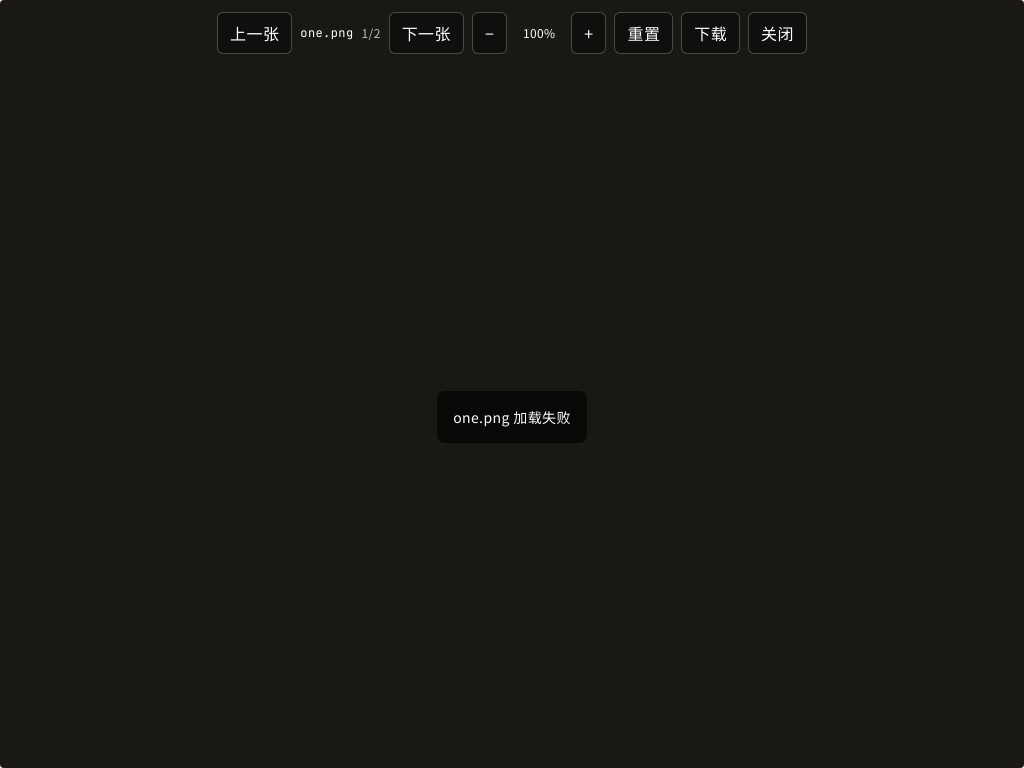
it: ImageLightbox artifacts and failure states › shows a per-image load failure while healthy siblings remain navigable
The image size is (1024, 768).
Expected: the text "one.png 加载失败" is shown, x1=437 y1=391 x2=587 y2=443
Click the button with aria-label "下一张图片" at x=426, y=33, box x1=389 y1=12 x2=464 y2=54
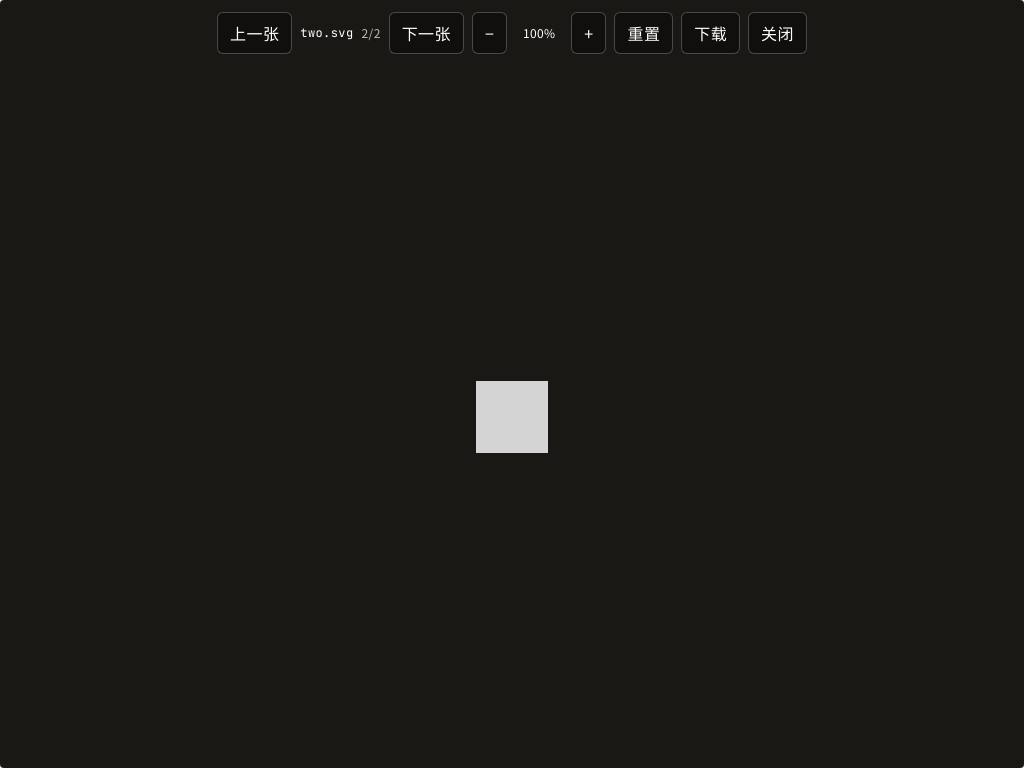
Expected: the text "one.png 加载失败" is gone
